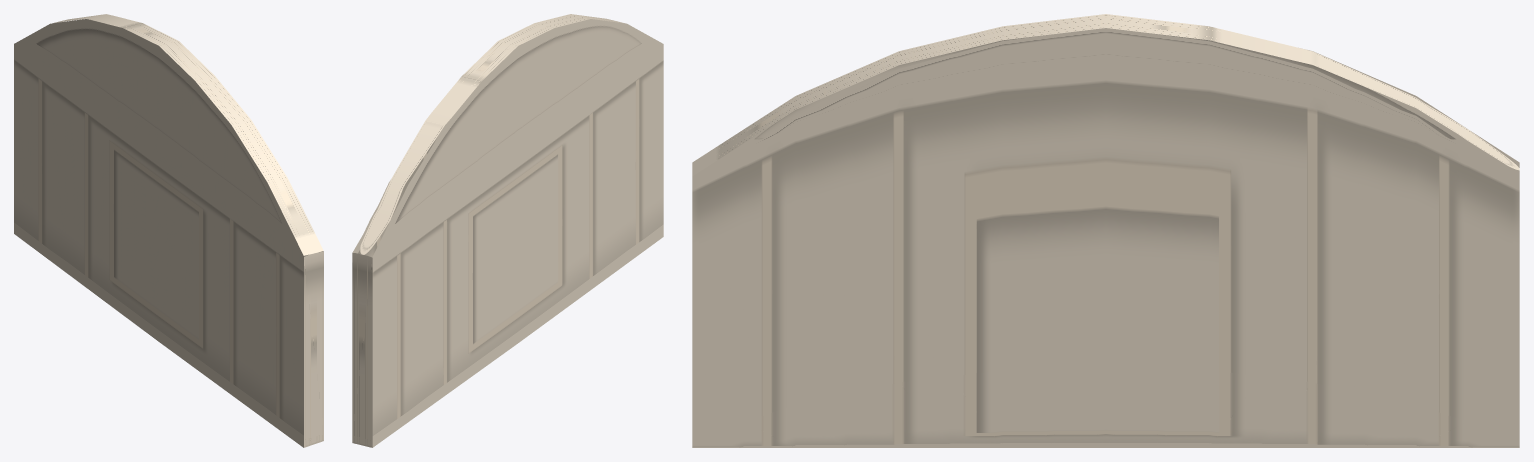
The model's file is armeRoi.fbx.
The picture shows the model from 3 angles, left to right: view 1: azimuth 30°, elevation 25°; view 2: azimuth 150°, elevation 25°; view 3: azimuth 270°, elevation 25°; orthographic projection. The views are drawn at different scales.
Parts seen in each view (by area): view 1: armeRoi; view 2: armeRoi; view 3: armeRoi.
Part boxes in pixels (left/top/right/bottom): armeRoi: left=14, top=14, right=323, bottom=447; armeRoi: left=352, top=14, right=663, bottom=447; armeRoi: left=692, top=14, right=1519, bottom=447.
Size of the model in its own units: 10 by 141 by 250.
